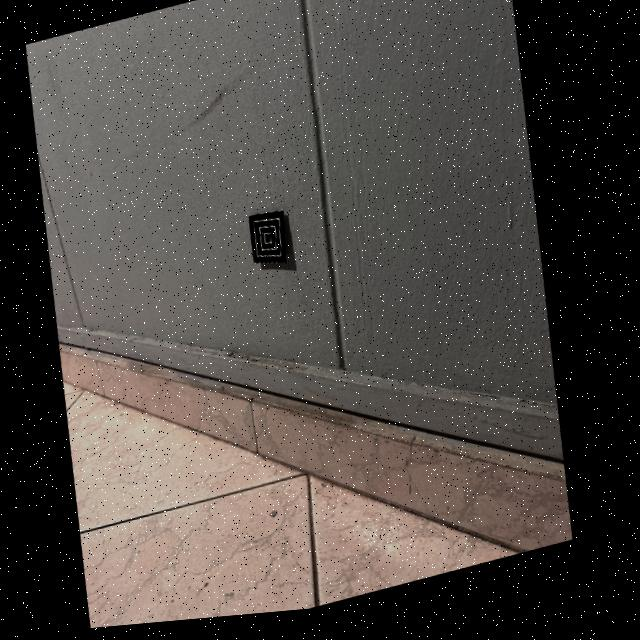BULLSEYE: (253, 217, 291, 269)
